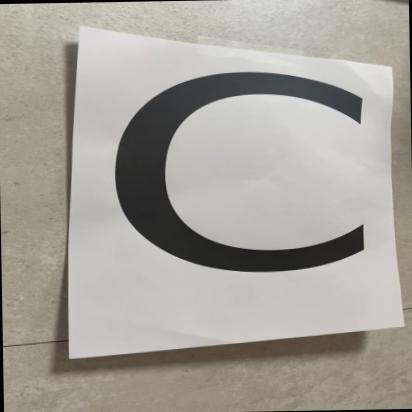seat: (31, 7, 412, 368)
